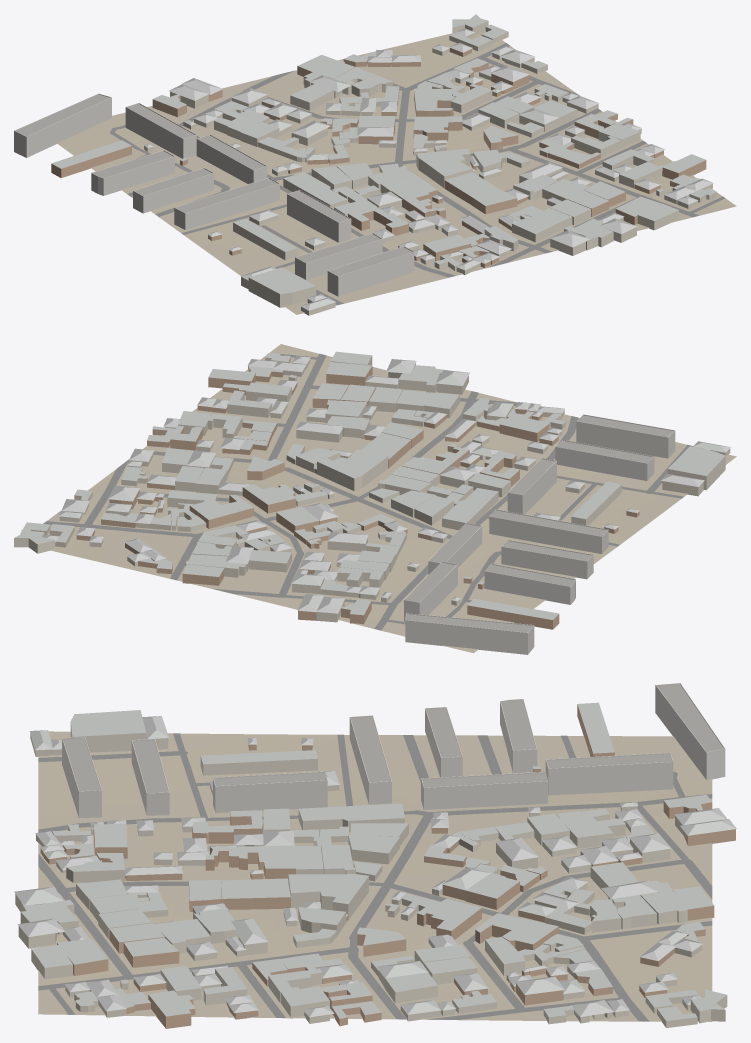
Rendered from bolak_-11_0.glb.
3 renders of one model, top to bottom at view 1: azimuth 30°, elevation 25°; view 2: azimuth 150°, elevation 25°; view 3: azimuth 270°, elevation 25°, orthographic. The views are drawn at different scales.
Visible parts, largest first — view 1: Tom_Shifer, Yer_Tuproq-col, Devor_Suvoq-col, Devor_Panel-col, Devor_Gisht-col, Yol_Mahalla-col, Tom_Tekis; view 2: Tom_Shifer, Yer_Tuproq-col, Devor_Suvoq-col, Devor_Panel-col, Devor_Gisht-col, Yol_Mahalla-col, Tom_Tekis; view 3: Tom_Shifer, Yer_Tuproq-col, Devor_Suvoq-col, Devor_Panel-col, Devor_Gisht-col, Yol_Mahalla-col, Tom_Tekis.
Boxes of the visible parts, x1,y1,x2,y2 form: Tom_Shifer: (51, 14, 716, 310); Yer_Tuproq-col: (57, 30, 736, 314); Devor_Suvoq-col: (144, 21, 716, 315); Devor_Panel-col: (14, 93, 414, 296); Devor_Gisht-col: (51, 48, 706, 267); Yol_Mahalla-col: (110, 43, 725, 304); Tom_Tekis: (15, 94, 412, 276); Tom_Shifer: (15, 351, 730, 619); Yer_Tuproq-col: (47, 344, 736, 653); Devor_Suvoq-col: (14, 354, 730, 622); Devor_Panel-col: (404, 414, 675, 654); Devor_Gisht-col: (76, 366, 639, 629); Yol_Mahalla-col: (43, 353, 692, 630); Tom_Tekis: (405, 415, 673, 632); Tom_Shifer: (14, 702, 736, 1020); Yer_Tuproq-col: (38, 731, 712, 1021); Devor_Suvoq-col: (15, 722, 727, 1027); Devor_Panel-col: (62, 683, 725, 818); Devor_Gisht-col: (40, 704, 735, 1028); Yol_Mahalla-col: (38, 733, 712, 1021); Tom_Tekis: (63, 684, 723, 793).
Size of what is drawn, in the model's own units: 453 by 21.32 by 429.
